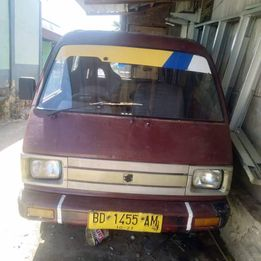plate: (88, 207, 164, 237)
